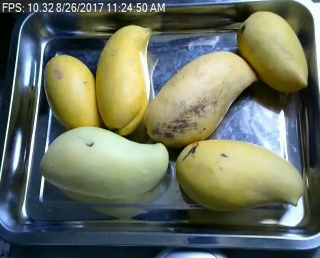Mango: (146, 52, 260, 147), (38, 125, 169, 199), (173, 139, 306, 210), (237, 10, 309, 91), (96, 24, 149, 129), (42, 53, 102, 131)
